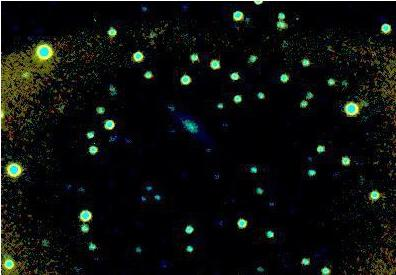star: (211, 187, 241, 217)
